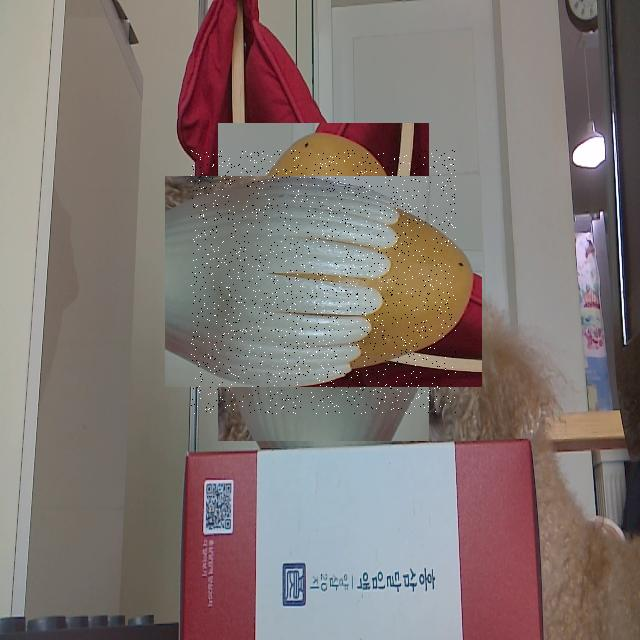pear: (191, 150, 456, 414)
